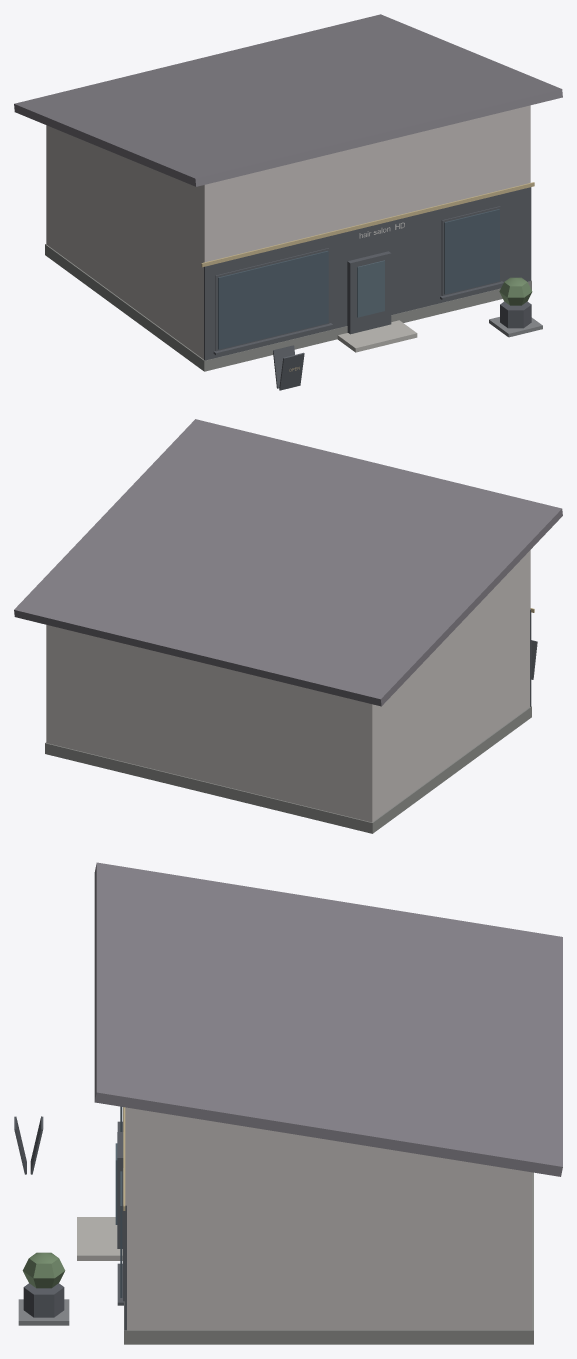
The model's file is shop_salon.glb.
3 views of the same model, one above another, from view 1: azimuth 30°, elevation 25°; view 2: azimuth 150°, elevation 25°; view 3: azimuth 270°, elevation 25° (orthographic). The views are drawn at different scales.
Visible parts, largest first — view 1: Static; view 2: Static; view 3: Static.
Boxes of the visible parts, x1,y1,x2,y2 form: Static: [14, 14, 562, 390]; Static: [14, 419, 562, 833]; Static: [14, 862, 562, 1344].
Bounding box in the file's own units: 10.7 × 5.73 × 10.79.
